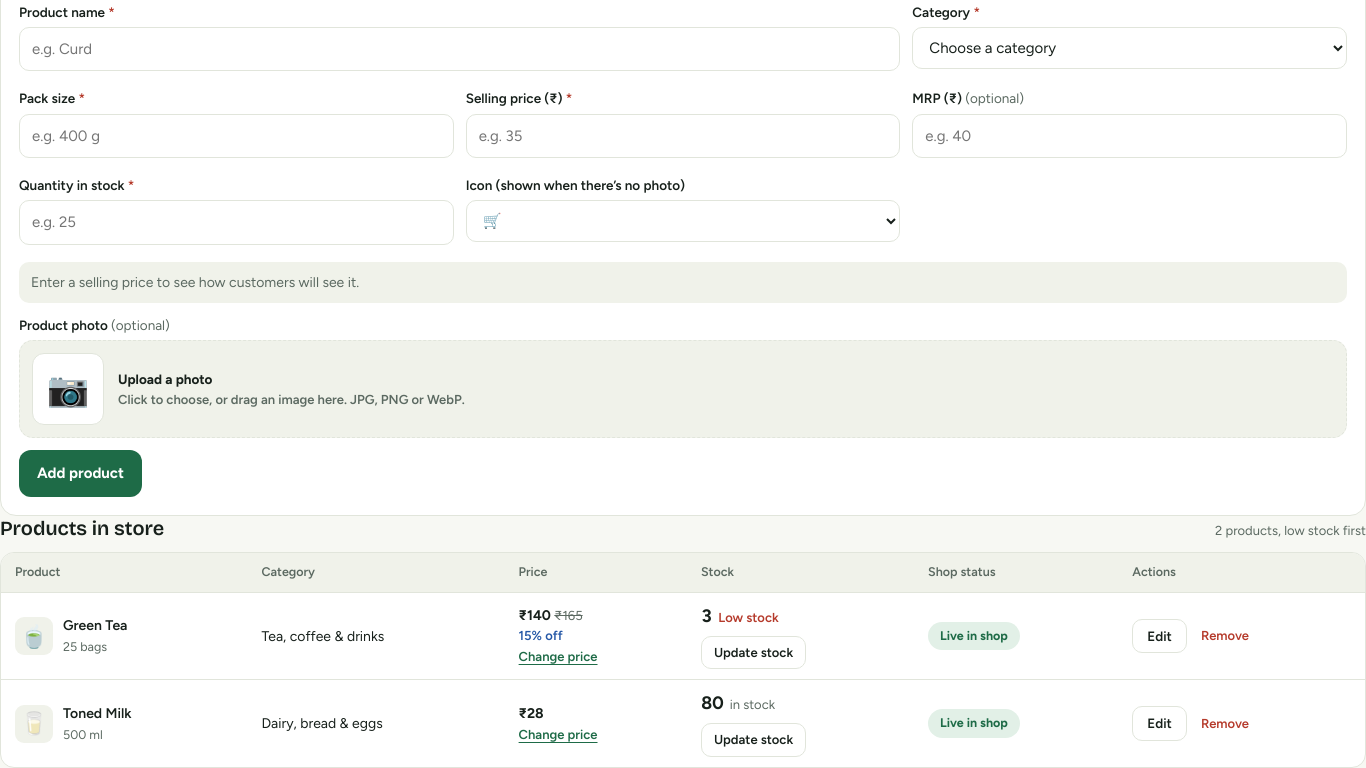
Test: Admin > Products › Remove asks first, then removes
The image size is (1366, 768).
Later steps or results of the test are not shown.
(page scrolled)
Click the button with aria-label "Remove Toned Milk" at (1225, 724), box [1201,714,1249,733]
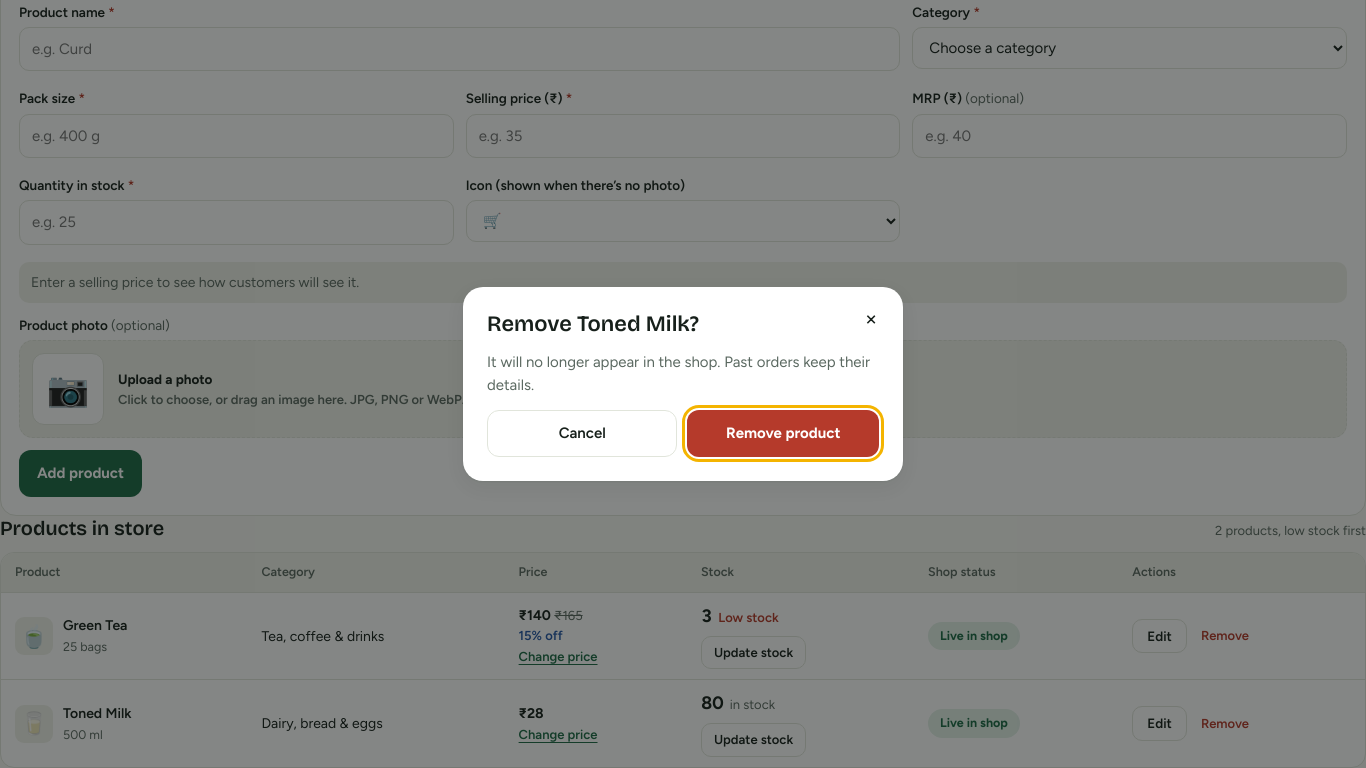
Check: the text "Past orders keep their details" is shown, box [487,353,870,394]
